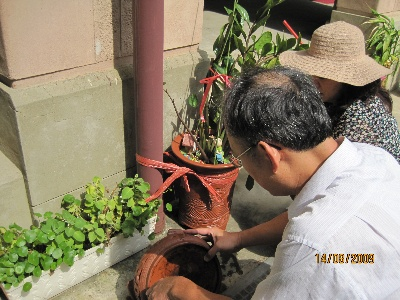bottle: (172, 130, 239, 231)
bowl: (132, 234, 223, 300)
